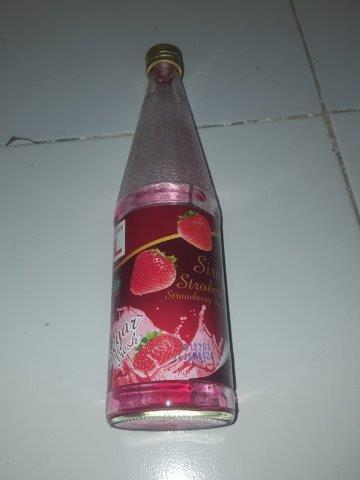botolkaca: (106, 43, 239, 431)
